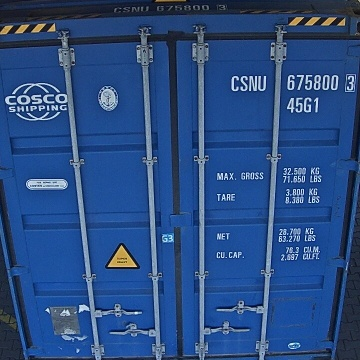serial_id: (231, 74, 355, 91)
